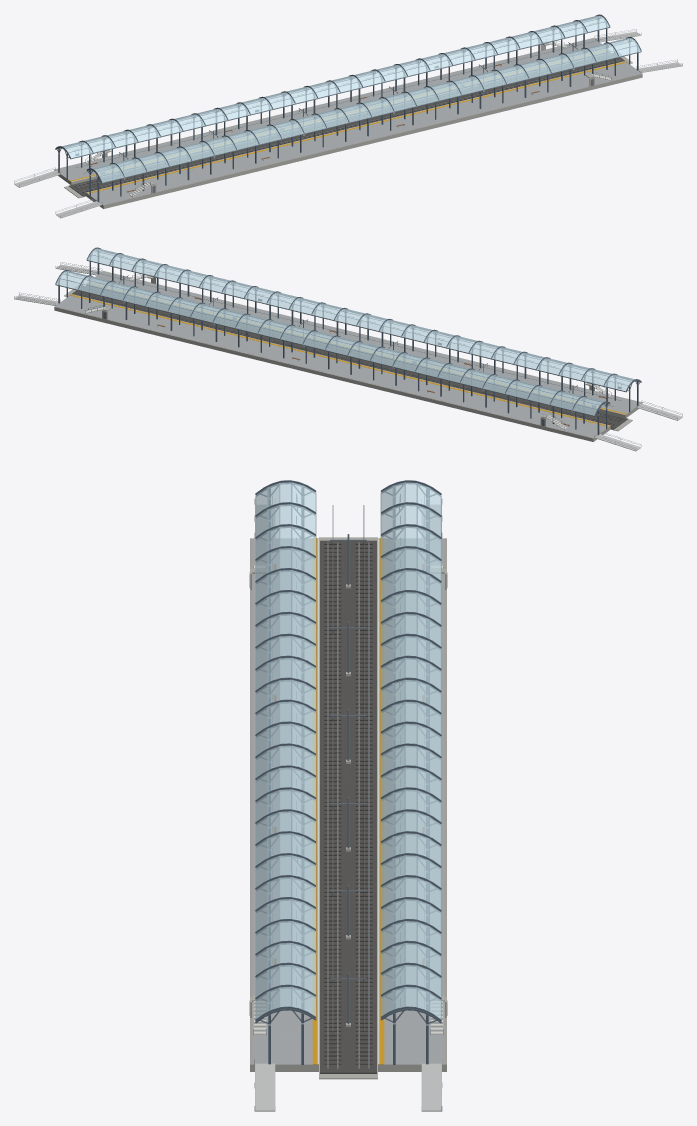
File: RAIL03_lod2.glb
The picture shows the model from 3 angles, top to bottom: view 1: azimuth 30°, elevation 25°; view 2: azimuth 150°, elevation 25°; view 3: azimuth 270°, elevation 25°; orthographic projection. The views are drawn at different scales.
Parts seen in each view (by area): view 1: Structure_M00_ballast, Facade_M02_glass, Facade_M01_glass, Facade_M00_glass, Facade_M05_glass, Facade_M03_glass, Facade_M04_glass, Interior_M01_stone, Interior_M03_stone, Interior_M02_stone, Interior_M04_stone, Interior_M00_stone (+24 smaller); view 2: Structure_M00_ballast, Facade_M00_glass, Facade_M02_glass, Facade_M03_glass, Facade_M01_glass, Facade_M05_glass, Facade_M04_glass, Interior_M01_stone, Interior_M03_stone, Interior_M02_stone, Interior_M04_stone, Interior_M00_stone (+23 smaller); view 3: Structure_M00_ballast, Facade_M00_glass, Facade_M04_glass, Facade_M03_glass, Facade_M01_glass, Facade_M02_glass, Facade_M05_glass, Interior_M05_stone, Interior_M02_stone, Interior_M04_stone, Interior_M03_stone, Interior_M01_stone (+23 smaller).
Part boxes in pixels (x1=…): Structure_M00_ballast: x1=69, y1=53, x2=627, y2=196; Facade_M02_glass: x1=242, y1=81, x2=371, y2=138; Facade_M01_glass: x1=152, y1=103, x2=281, y2=160; Facade_M00_glass: x1=62, y1=125, x2=191, y2=182; Facade_M05_glass: x1=512, y1=15, x2=640, y2=72; Facade_M03_glass: x1=332, y1=59, x2=460, y2=116; Facade_M04_glass: x1=422, y1=37, x2=550, y2=94; Interior_M01_stone: x1=145, y1=126, x2=282, y2=182; Interior_M03_stone: x1=325, y1=82, x2=461, y2=139; Interior_M02_stone: x1=235, y1=104, x2=371, y2=160; Interior_M04_stone: x1=414, y1=60, x2=551, y2=117; Interior_M00_stone: x1=55, y1=148, x2=192, y2=204; Structure_M00_ballast: x1=69, y1=286, x2=627, y2=429; Facade_M00_glass: x1=505, y1=358, x2=634, y2=415; Facade_M02_glass: x1=325, y1=314, x2=454, y2=371; Facade_M03_glass: x1=236, y1=292, x2=364, y2=349; Facade_M01_glass: x1=415, y1=336, x2=544, y2=393; Facade_M05_glass: x1=56, y1=248, x2=184, y2=305; Facade_M04_glass: x1=146, y1=270, x2=274, y2=327; Interior_M01_stone: x1=414, y1=359, x2=551, y2=415; Interior_M03_stone: x1=235, y1=315, x2=371, y2=372; Interior_M02_stone: x1=325, y1=337, x2=461, y2=393; Interior_M04_stone: x1=145, y1=293, x2=282, y2=350; Interior_M00_stone: x1=504, y1=381, x2=641, y2=437; Structure_M00_ballast: x1=320, y1=540, x2=376, y2=1073; Facade_M00_glass: x1=255, y1=482, x2=440, y2=580; Facade_M04_glass: x1=255, y1=833, x2=440, y2=931; Facade_M03_glass: x1=255, y1=745, x2=440, y2=843; Facade_M01_glass: x1=255, y1=570, x2=440, y2=667; Facade_M02_glass: x1=255, y1=658, x2=440, y2=755; Facade_M05_glass: x1=255, y1=921, x2=440, y2=1018; Interior_M05_stone: x1=252, y1=977, x2=444, y2=1064; Interior_M02_stone: x1=252, y1=713, x2=444, y2=801; Interior_M04_stone: x1=252, y1=889, x2=444, y2=976; Interior_M03_stone: x1=252, y1=801, x2=444, y2=888; Interior_M01_stone: x1=252, y1=626, x2=444, y2=713.
Size of the model in its own units: 208 by 10.46 by 28.61.
Materials: 18 (10 with a texture image).
